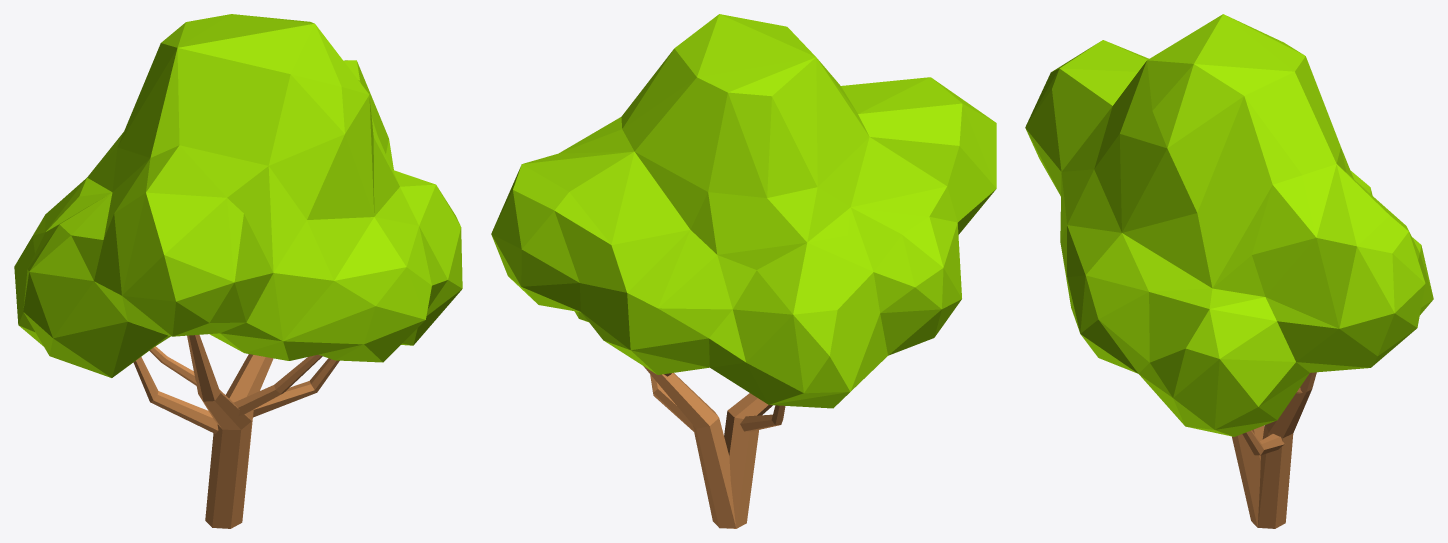
Rendered from Tree_5.fbx.
3 renders of one model, left to right at view 1: azimuth 30°, elevation 25°; view 2: azimuth 150°, elevation 25°; view 3: azimuth 270°, elevation 25°, orthographic. The views are drawn at different scales.
Visible parts, largest first — view 1: tree_5; view 2: tree_5; view 3: tree_5.
Part boxes in pixels (x1,y1,x2,y2): tree_5: (14, 14, 462, 528); tree_5: (491, 14, 996, 528); tree_5: (1025, 14, 1433, 528).
Size of the model in its own units: 342 by 398 by 306.
